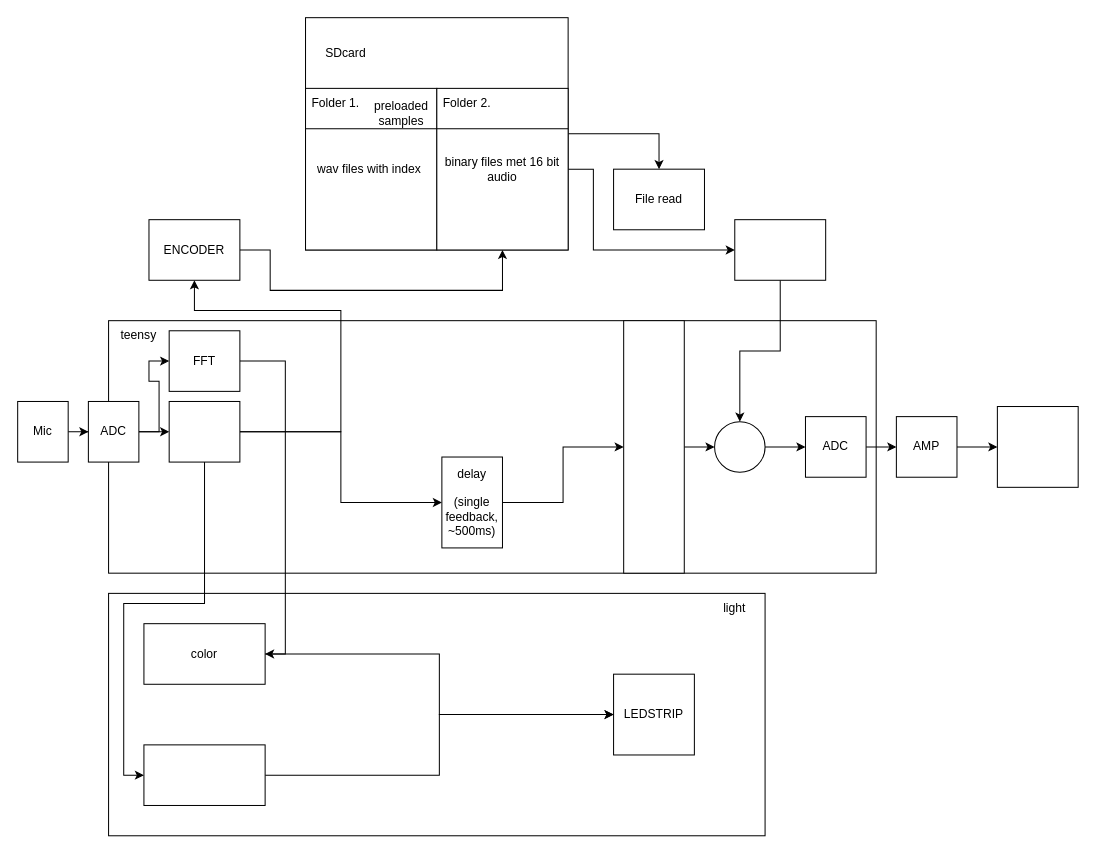
Some shapes in this 1096 by 853 pixel diagram are drawn without their labels. Here are the shapes that lost their labels. From the top down, the centre of each, then its label:
At (x=780, y=249): "DECODER".
At (x=204, y=431): "Threshold".
At (x=653, y=446): "LOGIC GATES (muting output)".
At (x=739, y=446): "FX".
At (x=1037, y=446): "CONDUCTOR".
At (x=204, y=774): "brightness".
